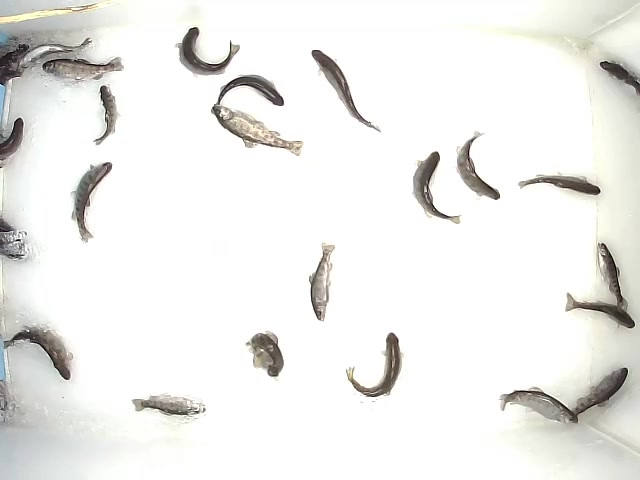fish: (310, 48, 375, 131), (209, 103, 305, 158), (2, 322, 75, 382), (410, 150, 462, 225), (346, 331, 404, 398), (69, 161, 113, 243), (175, 26, 242, 77), (455, 131, 502, 201), (498, 385, 580, 425), (570, 366, 630, 417), (14, 38, 92, 77), (565, 290, 636, 330), (214, 74, 285, 107), (594, 241, 629, 306), (308, 243, 336, 322), (518, 172, 603, 198), (132, 393, 207, 420), (43, 57, 126, 81), (91, 83, 122, 147), (245, 330, 285, 378), (598, 60, 640, 98)
